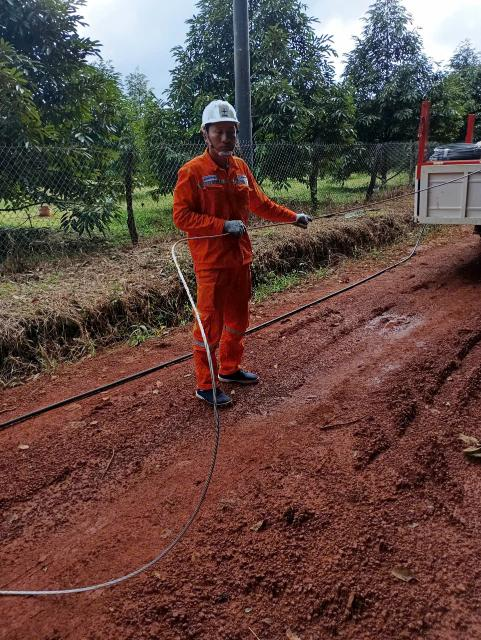gloves: (210, 217, 255, 241), (287, 211, 316, 229)
helmet: (197, 98, 247, 135)
shoes: (201, 378, 242, 412), (217, 363, 263, 386)
